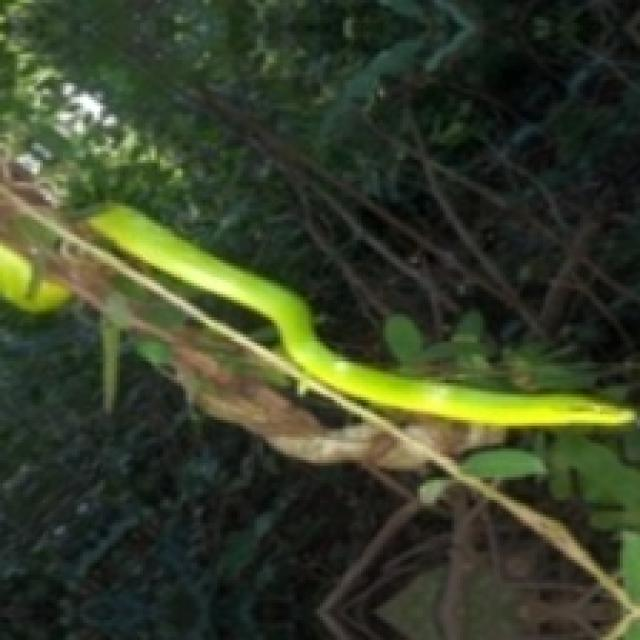red-tailed green ratsnake: (80, 203, 631, 426)
